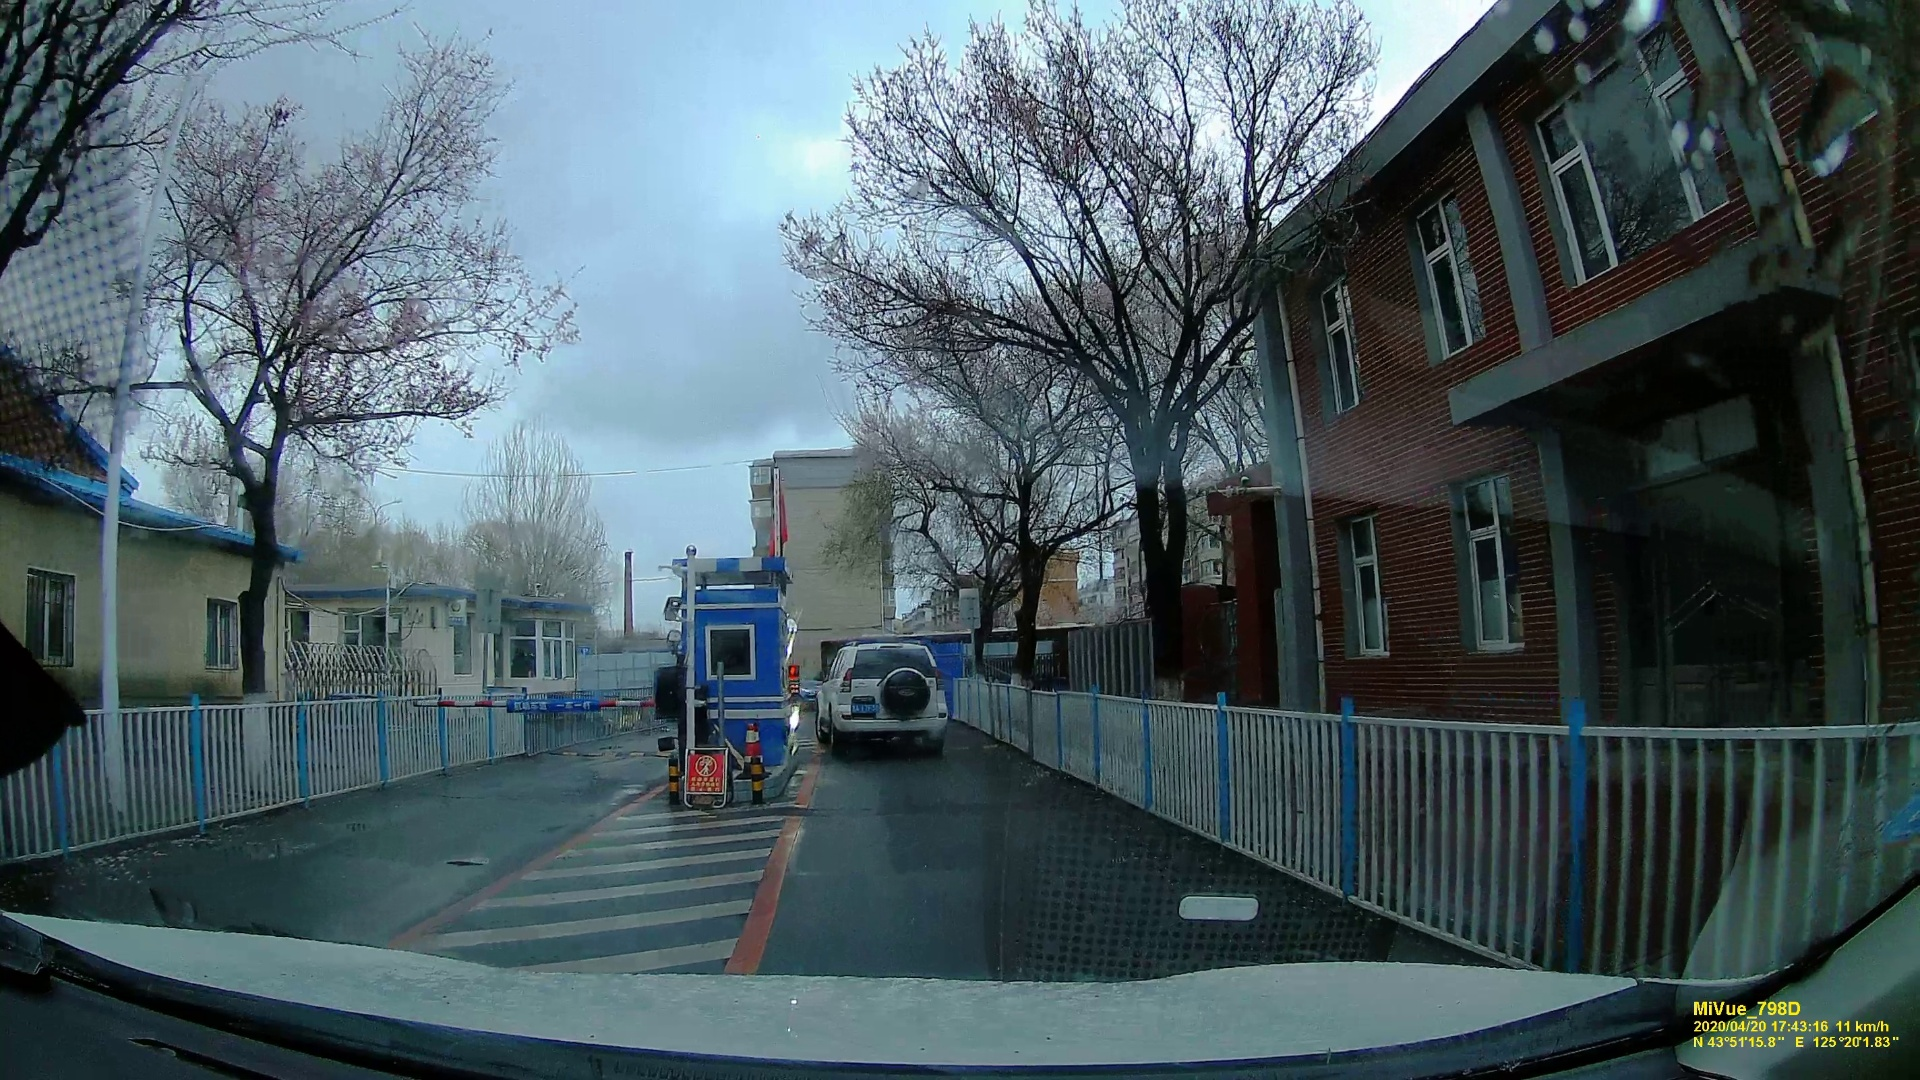traffic_sign: (682, 749, 727, 802)
vehicle: (810, 637, 953, 756)
